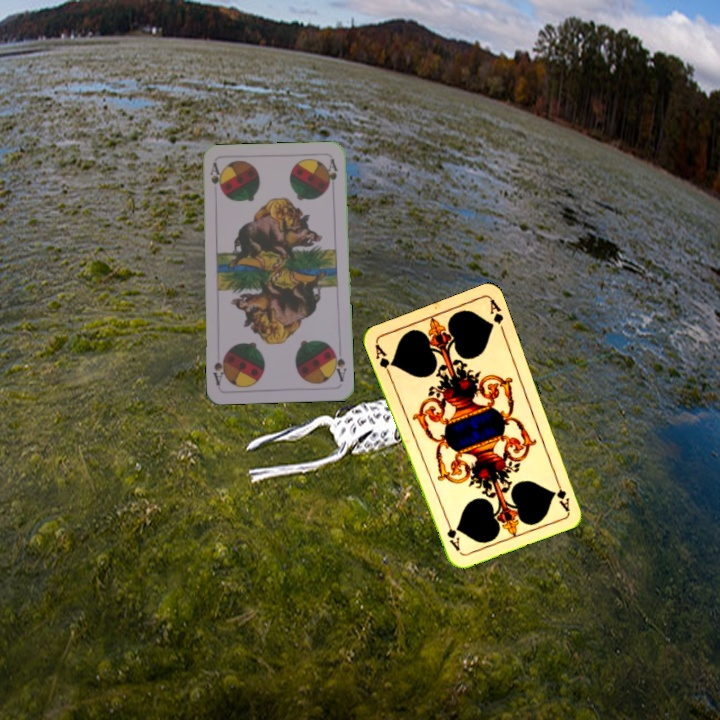GA: (371, 340, 396, 379), (551, 474, 572, 514)
SA: (329, 344, 349, 384), (206, 159, 223, 192)
